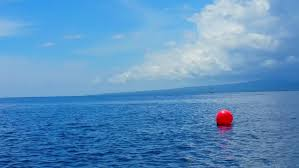buoy: (216, 109, 234, 128)
